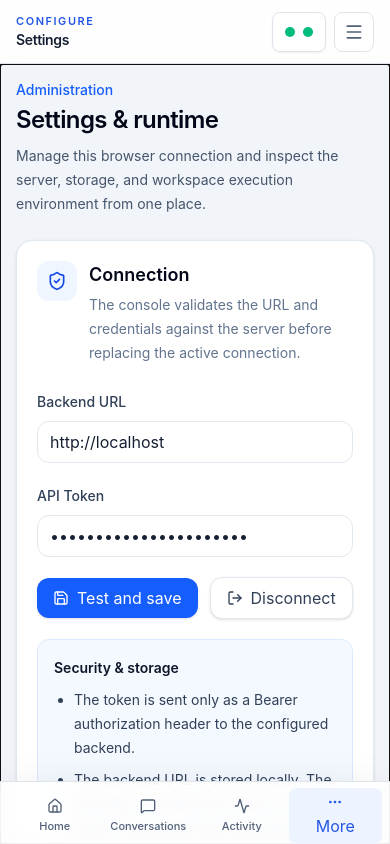
Scenario: App MSW integration safety net › guards global disconnect when the Settings connection draft is dirty
Expected: the heading "Settings & runtime" is shown, [16,105,218,134]
Type "/changed" into the field labelled "Backend URL".
click(195, 442); type("/changed")  # box [37,421,353,463]
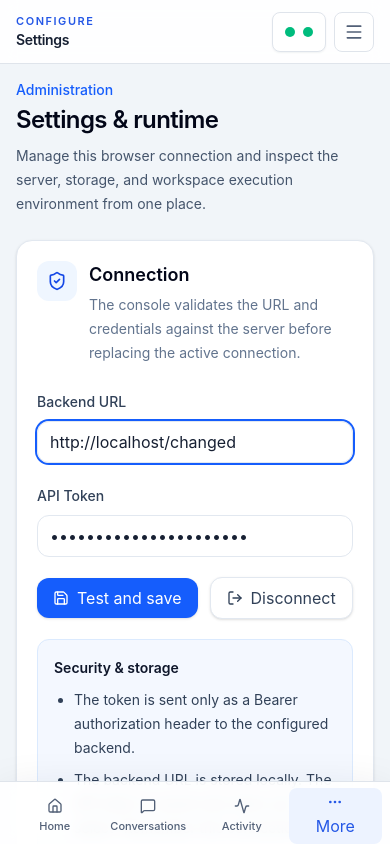
Click the button named "Open navigation".
click(354, 32)  # box [334,12,374,52]
(page scrolled)
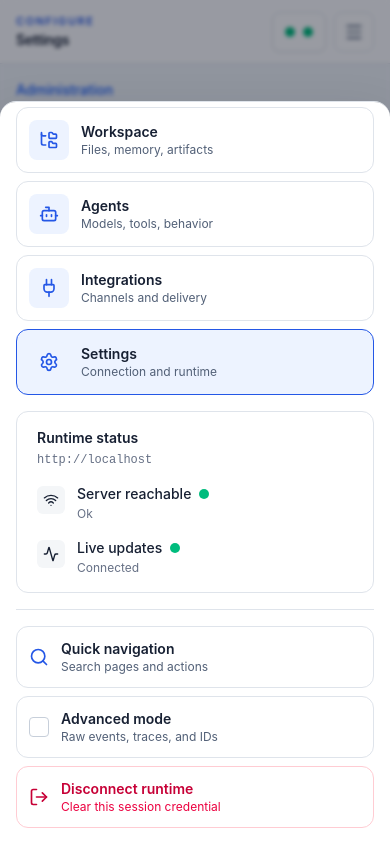
Click the button "Disconnect runtime Clear this session credential".
click(195, 797)  # box [16,766,374,828]
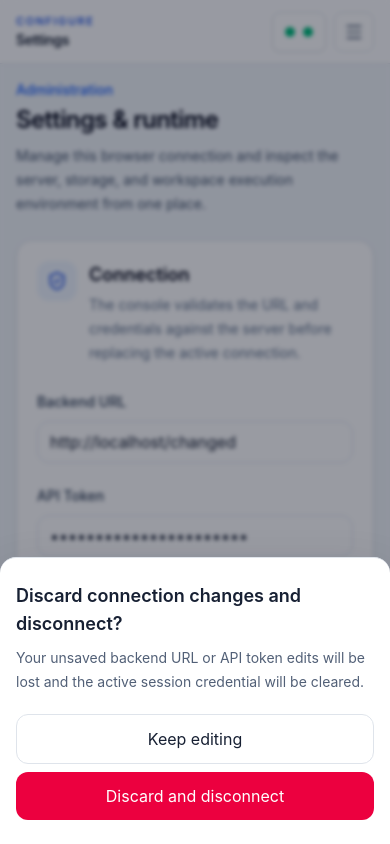
Expected: the text "Connect to your runtime" is not shown
Click the button "Keep editing".
click(195, 739)  # box [16,714,374,764]
(page scrolled)
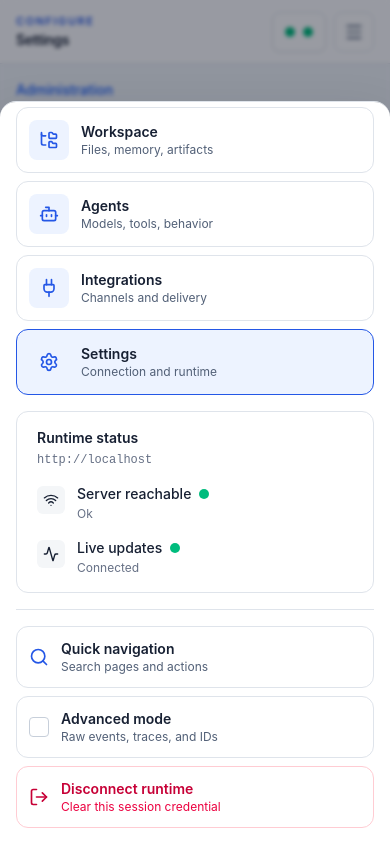
Click the button "Disconnect runtime Clear this session credential".
click(195, 797)  # box [16,766,374,828]
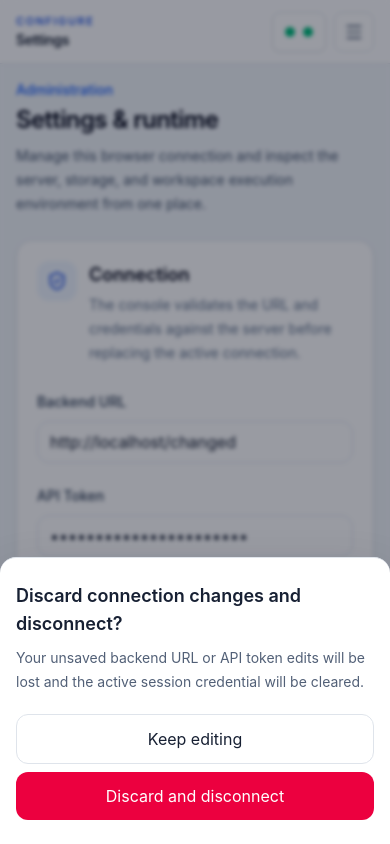
Click the button "Discard and disconnect".
click(195, 796)  # box [16,772,374,820]
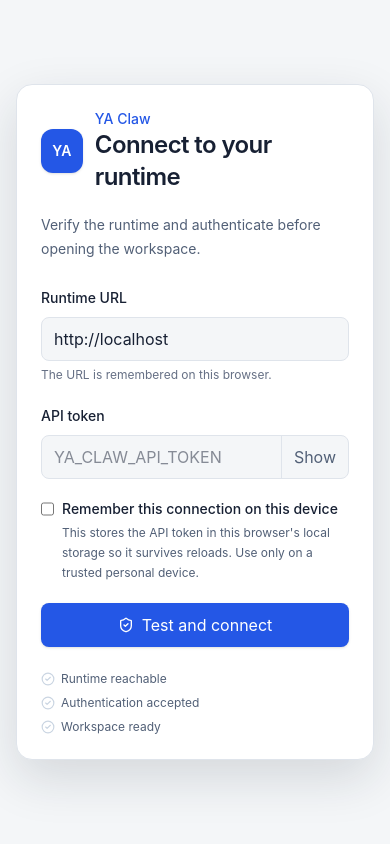
Expected: the heading "Connect to your runtime" is shown, [95,130,272,191]
